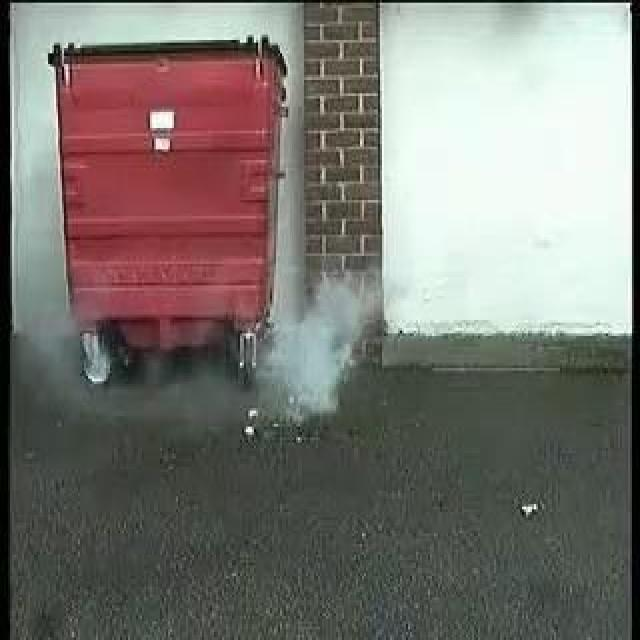Smoke: (258, 264, 394, 432)
